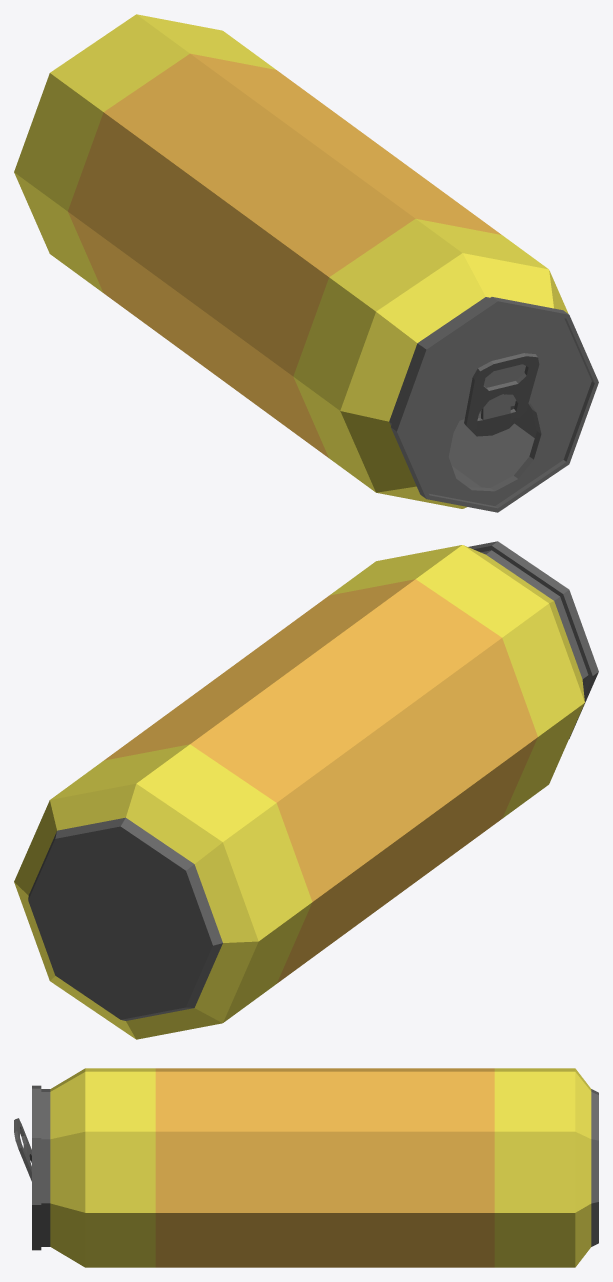
File: BeerCan.glb
3 views of the same model, one above another, from view 1: azimuth 30°, elevation 25°; view 2: azimuth 150°, elevation 25°; view 3: azimuth 270°, elevation 25° (orthographic). The views are drawn at different scales.
Parts seen in each view (by area): view 1: BeerCan; view 2: BeerCan; view 3: BeerCan.
Part boxes in pixels (bbox=[...]): BeerCan: bbox=[14, 14, 598, 512]; BeerCan: bbox=[14, 541, 598, 1039]; BeerCan: bbox=[14, 1068, 598, 1267].
Bounding box in the file's own units: 0.0648 × 0.0648 × 0.1787.
Materials: 1 (1 with a texture image).
